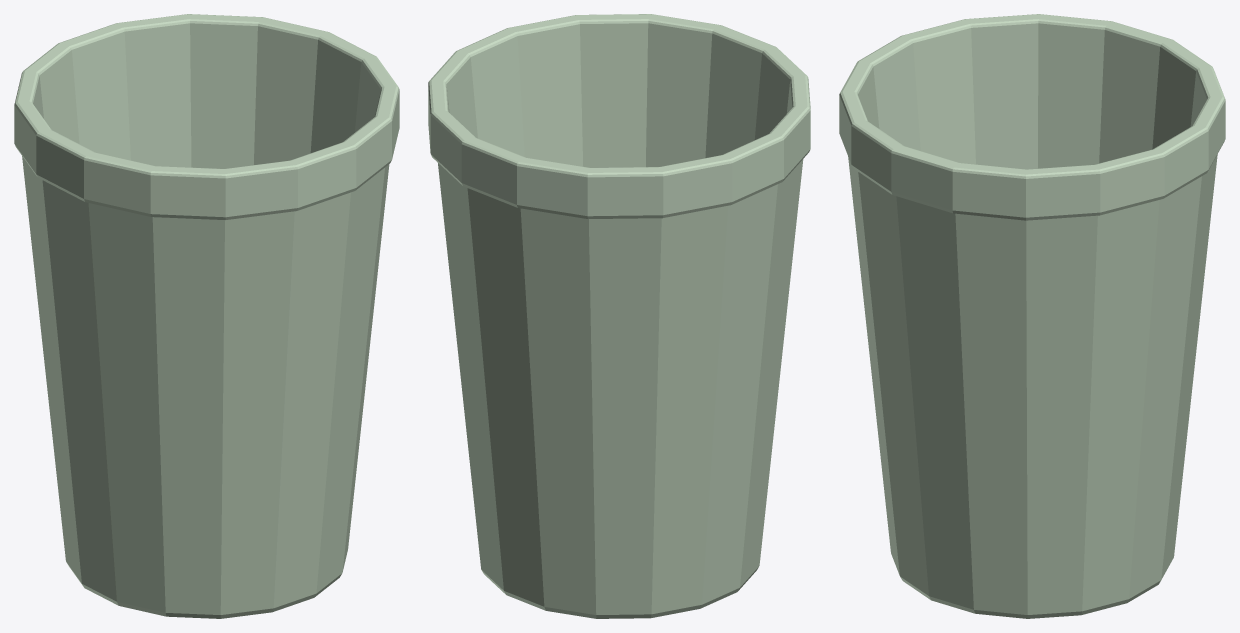
File: drinking_glass.glb
The picture shows the model from 3 angles, left to right: view 1: azimuth 30°, elevation 25°; view 2: azimuth 150°, elevation 25°; view 3: azimuth 270°, elevation 25°; orthographic projection.
Visible parts, largest first — view 1: DrinkingGlassMesh; view 2: DrinkingGlassMesh; view 3: DrinkingGlassMesh.
Boxes of the visible parts, left/top/right/bottom form: DrinkingGlassMesh: left=14, top=14, right=399, bottom=618; DrinkingGlassMesh: left=428, top=14, right=810, bottom=618; DrinkingGlassMesh: left=839, top=14, right=1225, bottom=618.
Bounding box in the file's own units: 0.0748 × 0.1 × 0.0748.
